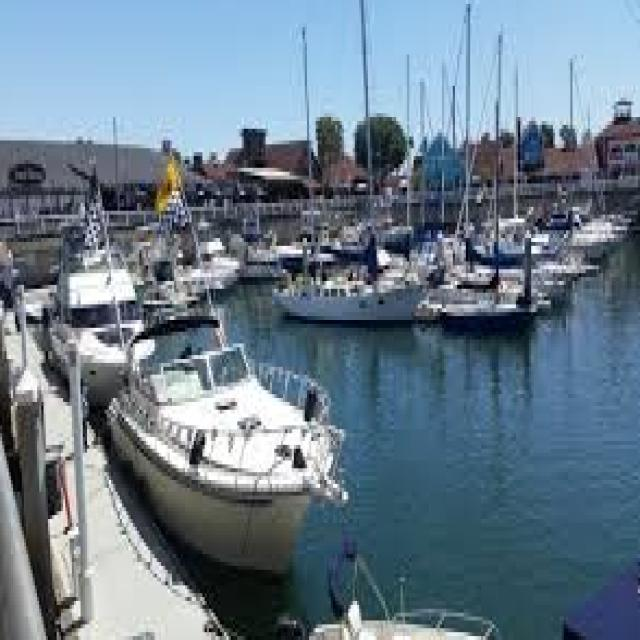houseboat: (116, 320, 382, 556)
